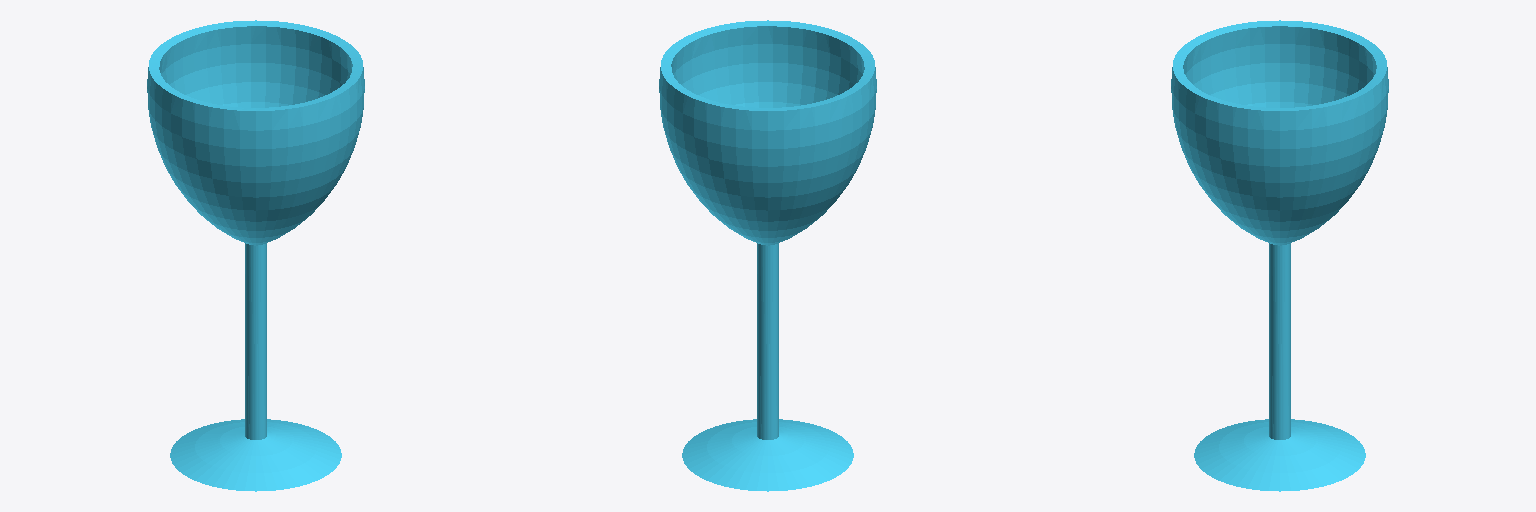
The robot description file, URDF, robot "glass":
<?xml version="1.0" encoding="utf-8"?>
<!-- This URDF was automatically created by SolidWorks to URDF Exporter! Originally created by [author] ([email redacted]) 
     Commit Version: 1.6.0-4-g7f85cfe  Build Version: 1.6.7995.38578
     For more information, please see http://wiki.ros.org/sw_urdf_exporter -->
<robot
  name="glass">
  <link
    name="glass">
    <inertial>
      <origin
        xyz="-4.3177E-18 0 0.13122"
        rpy="0 0 0" />
      <mass
        value="0.14236" />
      <inertia
        ixx="0.00066582"
        ixy="2.0922E-36"
        ixz="-3.9521E-20"
        iyy="0.00066582"
        iyz="0"
        izz="0.00020208" />
    </inertial>
    <visual>
      <origin
        xyz="0 0 0"
        rpy="0 0 0" />
      <geometry>
        <mesh
          filename="package://glass/meshes/glass.STL" />
      </geometry>
      <material
        name="">
        <color
          rgba="0.3451 0.86275 1 1" />
      </material>
    </visual>
    <collision>
      <origin
        xyz="0 0 0"
        rpy="0 0 0" />
      <geometry>
        <mesh
          filename="package://glass/meshes/glass.STL" />
      </geometry>
    </collision>
  </link>
</robot>

--- Render facts (derived) ---
Views: 3 orthographic renders of the robot side by side, from view 1: azimuth 30°, elevation 25°; view 2: azimuth 150°, elevation 25°; view 3: azimuth 270°, elevation 25°.
Model glass with 1 links and 0 joints (none), rooted at glass, posed all joints at 0.
Visible links, largest first — view 1: glass; view 2: glass; view 3: glass.
Link boxes in pixels (box(x1,y1,x2,y2)): glass: box(147, 20, 364, 491); glass: box(659, 20, 876, 491); glass: box(1171, 20, 1388, 491).
Bounding box of the posed robot: 0.1015 × 0.1012 × 0.2 m (x, y, z).
Meshes: 1 distinct files referenced, 1 mesh visuals loaded (1 binary STL).